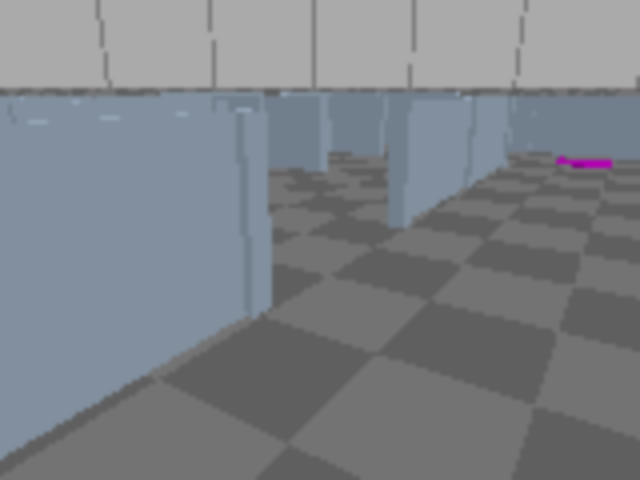goal_zone: (552, 158, 613, 169)
